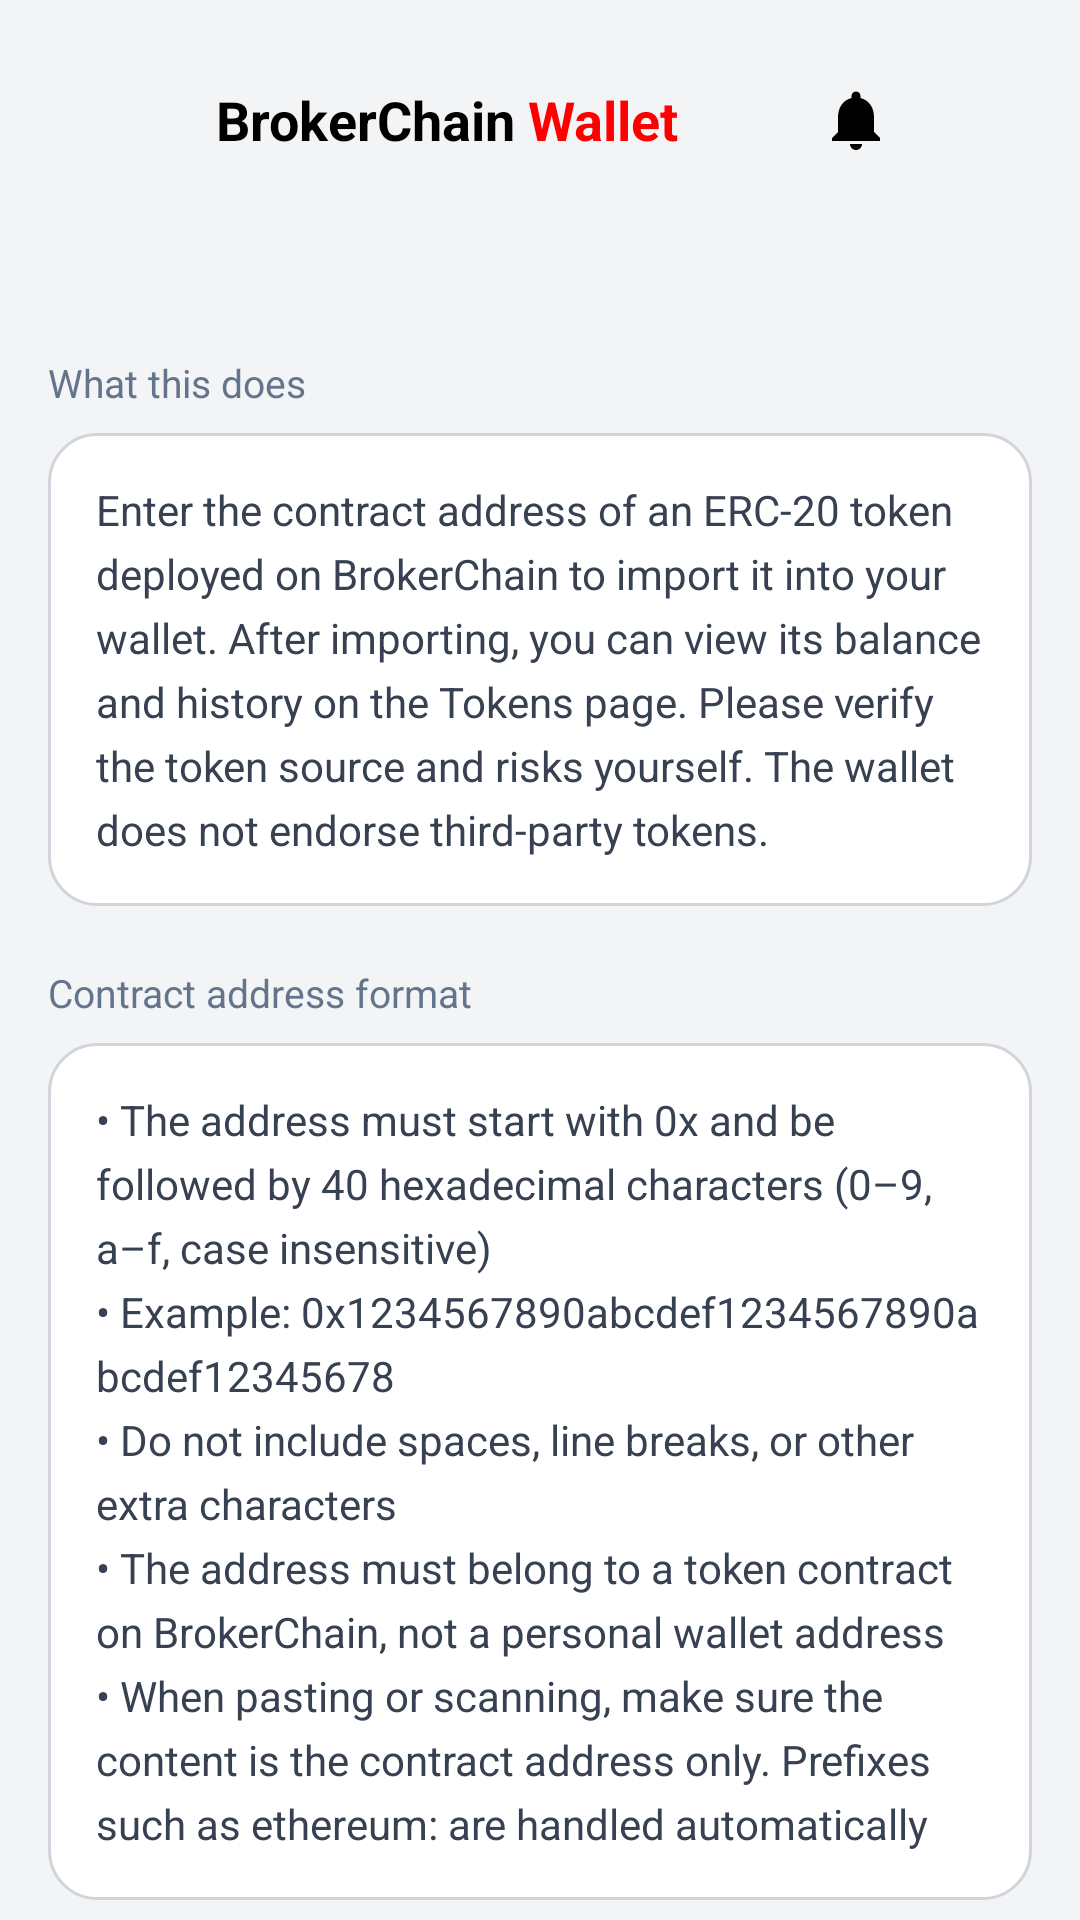

Where icons sit on this 1080px x 1920px app screen, as (x1, y1, x2, y2):
Notifications: (832, 91, 880, 150)
